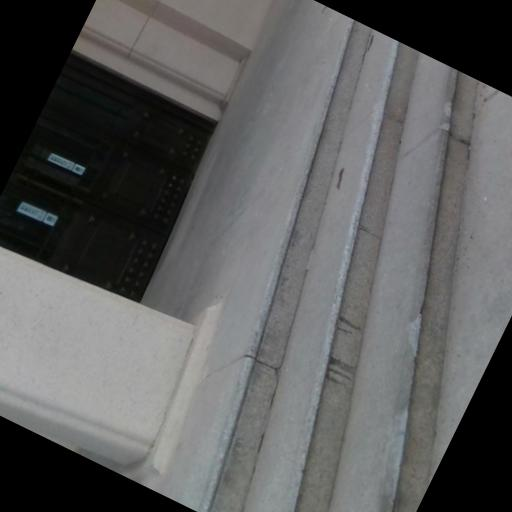stairs: (226, 22, 477, 511)
